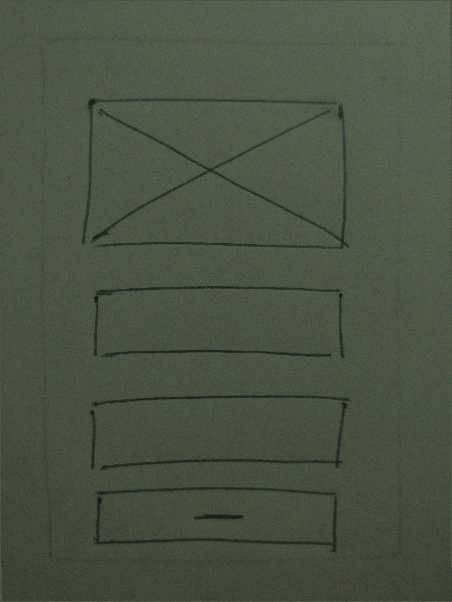button: (86, 485, 342, 555)
image: (77, 88, 357, 258)
text_input: (83, 282, 353, 371), (80, 392, 353, 478)
